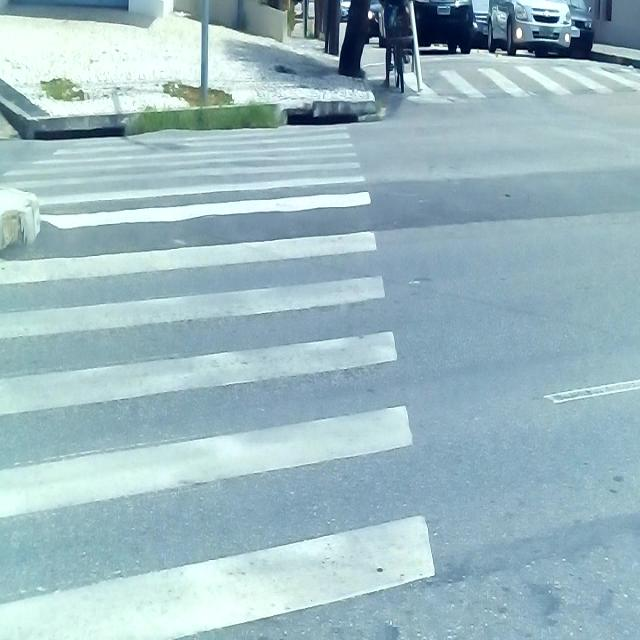crosswalk: (0, 121, 461, 640)
